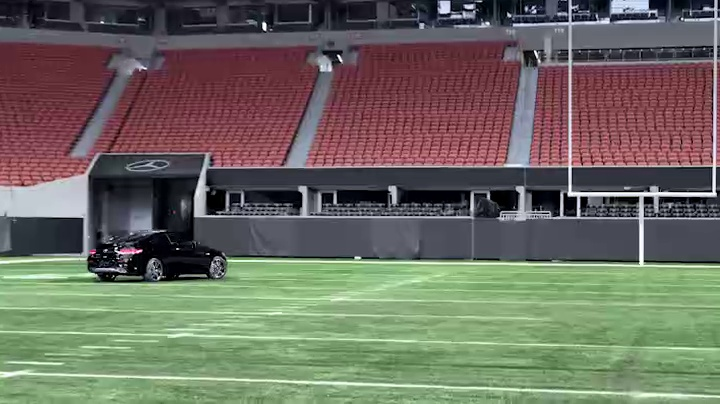amg: (88, 229, 230, 285)
